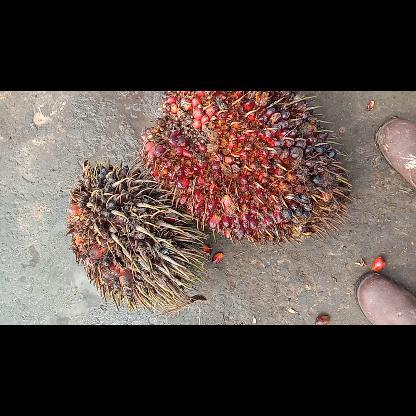TBS abnormal: (66, 160, 212, 312)
TBS masak: (141, 91, 351, 243)
